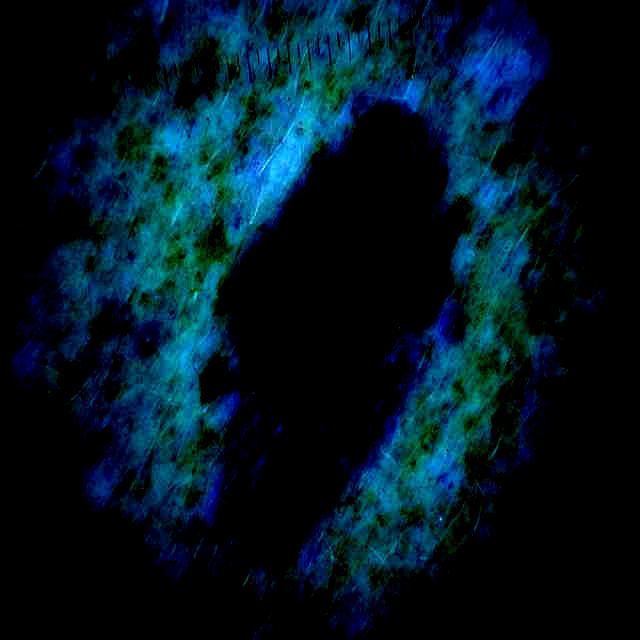MEL: (217, 107, 446, 545)
